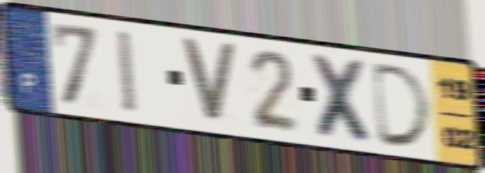2: (247, 48, 301, 134)
7: (50, 19, 102, 110)
D: (370, 60, 436, 150)
I: (114, 26, 140, 117)
V: (177, 35, 240, 129)
X: (307, 50, 379, 148)
